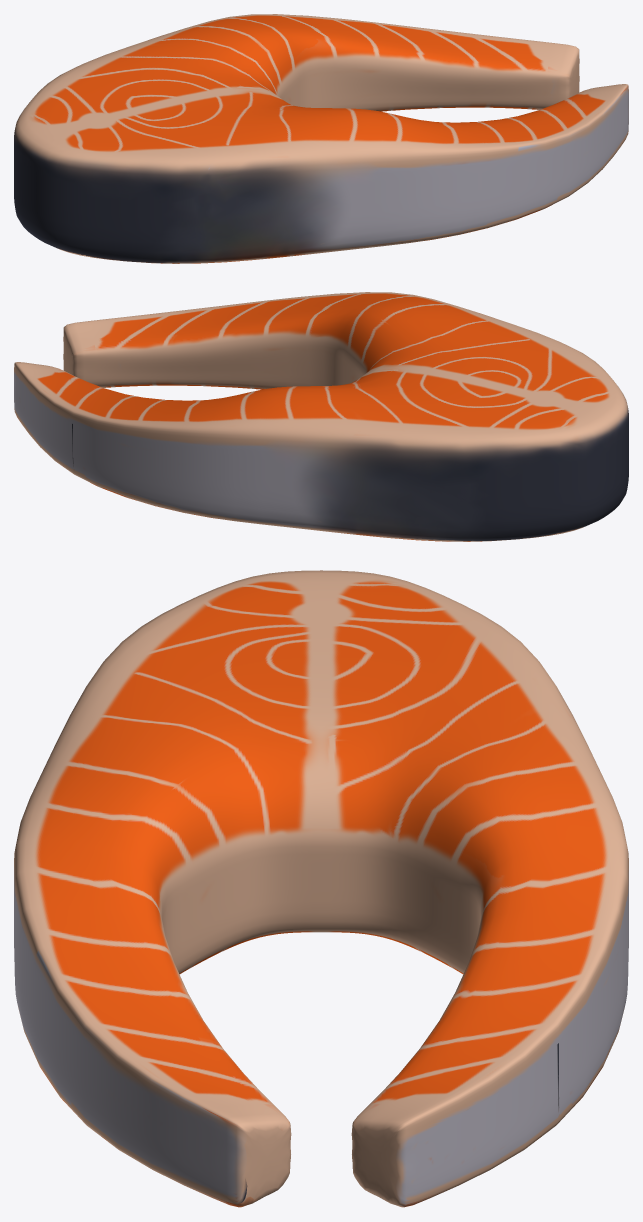
The model's file is Salmon.glb.
3 renders of one model, top to bottom at view 1: azimuth 30°, elevation 25°; view 2: azimuth 150°, elevation 25°; view 3: azimuth 270°, elevation 25°, orthographic. The views are drawn at different scales.
Visible parts, largest first — view 1: Cube_0; view 2: Cube_0; view 3: Cube_0.
Boxes of the visible parts, x1,y1,x2,y2 form: Cube_0: (14, 14, 628, 263); Cube_0: (14, 292, 628, 541); Cube_0: (14, 570, 628, 1207).
Bounding box in the file's own units: 1.51 × 0.3063 × 0.8564.
1 material, 1 textured.
